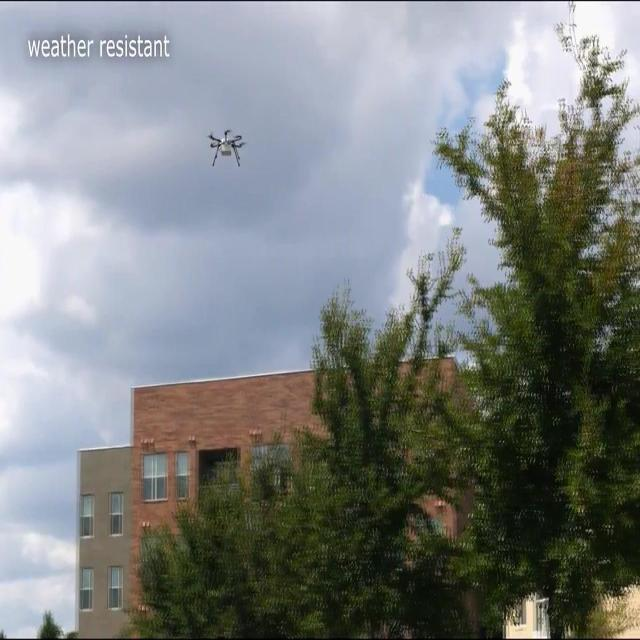drone: (207, 129, 249, 170)
